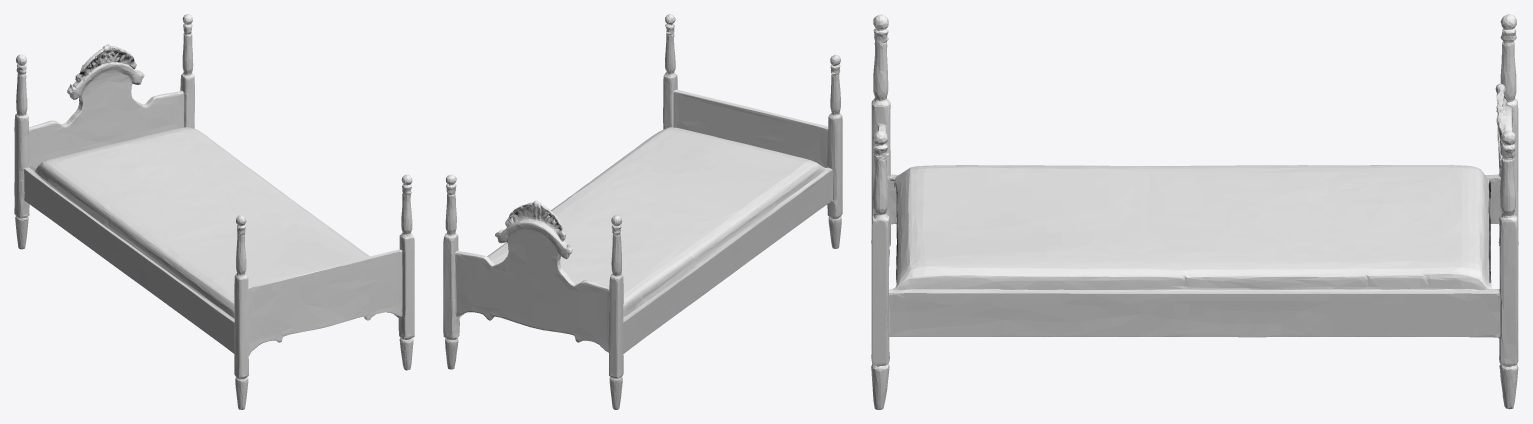
Rendered from 7adc9d80-15d5-4918-87a4-3fa92f03f7ae.glb.
3 views of the same model, side by side, from view 1: azimuth 30°, elevation 25°; view 2: azimuth 150°, elevation 25°; view 3: azimuth 270°, elevation 25° (orthographic). The views are drawn at different scales.
Visible parts, largest first — view 1: world; view 2: world; view 3: world.
Part boxes in pixels (x1=…): world: x1=14, y1=14, x2=414, y2=409; world: x1=443, y1=14, x2=842, y2=409; world: x1=871, y1=14, x2=1518, y2=409.
Bounding box in the file's own units: 0.4514 × 0.4734 × 1.
1 material, 1 textured.
